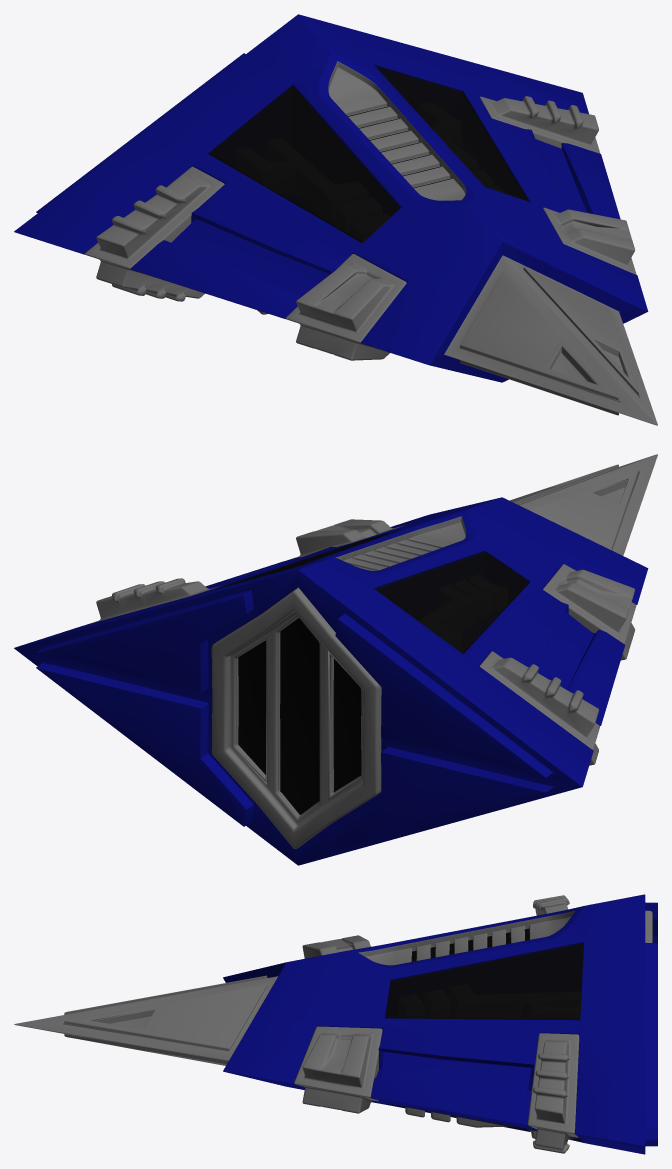
The model's file is Techno_Standart_detextured.obj.
The picture shows the model from 3 angles, top to bottom: view 1: azimuth 30°, elevation 25°; view 2: azimuth 150°, elevation 25°; view 3: azimuth 270°, elevation 25°; orthographic projection. The views are drawn at different scales.
Parts seen in each view (by area): view 1: Cone, Cone.003_Cone.005, Cone.001_Cone.003; view 2: Cone, Cone.005_Cone.007, Cone.003_Cone.005, Cone.001_Cone.003; view 3: Cone, Cone.003_Cone.005, Cone.001_Cone.003, Cone.004_Cone.006.
Boxes of the visible parts, x1,y1,x2,y2 form: Cone: (14, 14, 657, 425); Cone.003_Cone.005: (85, 96, 636, 360); Cone.001_Cone.003: (208, 65, 529, 243); Cone: (14, 454, 657, 865); Cone.005_Cone.007: (211, 587, 381, 848); Cone.003_Cone.005: (87, 519, 636, 765); Cone.001_Cone.003: (211, 530, 529, 653); Cone: (14, 894, 657, 1154); Cone.003_Cone.005: (294, 895, 579, 1153); Cone.001_Cone.003: (385, 942, 583, 1141); Cone.004_Cone.006: (405, 1107, 576, 1138).
Size of the model in its own units: 2.04 by 1.01 by 2.28.
